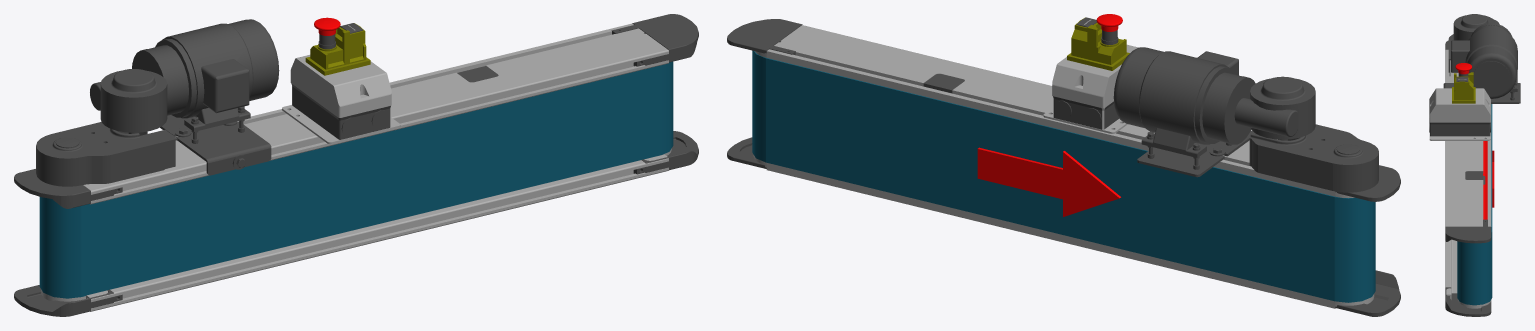
Rendered from MTF-GL.dae.
3 views of the same model, side by side, from view 1: azimuth 30°, elevation 25°; view 2: azimuth 150°, elevation 25°; view 3: azimuth 270°, elevation 25° (orthographic). The views are drawn at different scales.
Visible parts, largest first — view 1: _HE_010-H-GL_0-1010000022_0, _--H-83-83-83-GL_10000008_0, _T_898_0001_1-P210000020_0, _T_905_0058__1_10000024_0, _T_898_0001_1-P110000018_0, _GL-23-0_60_0_210000012_0, _GL-14-0_60__0_10000016_0, _GL-23-0_60_010000014_0, _GL-14-0_60__0__210000010_0; view 2: _HE_010-H-GL_0-1010000022_0, _--H-83-83-83-GL_10000008_0, _T_898_0001_1-P210000020_0, _T_905_0058__1_10000024_0, _T_898_0001_1-P110000018_0, _GL-23-0_60_0_210000012_0, _GL-23-0_60_010000014_0, _GL-14-0_60__0_10000016_0, _GL-14-0_60__0__210000010_0; view 3: _--H-83-83-83-GL_10000008_0, _T_898_0001_1-P210000020_0, _T_905_0058__1_10000024_0, _HE_010-H-GL_0-1010000022_0, _GL-23-0_60_0_210000012_0, _GL-14-0_60__0__210000010_0, _T_898_0001_1-P110000018_0.
Part boxes in pixels (x1=…): _HE_010-H-GL_0-1010000022_0: x1=39, y1=61, x2=673, y2=298; _--H-83-83-83-GL_10000008_0: x1=41, y1=23, x2=671, y2=311; _T_898_0001_1-P210000020_0: x1=90, y1=19, x2=279, y2=175; _T_905_0058__1_10000024_0: x1=282, y1=17, x2=400, y2=144; _T_898_0001_1-P110000018_0: x1=36, y1=122, x2=177, y2=186; _GL-23-0_60_0_210000012_0: x1=611, y1=14, x2=698, y2=66; _GL-14-0_60__0_10000016_0: x1=14, y1=169, x2=122, y2=208; _GL-23-0_60_010000014_0: x1=14, y1=285, x2=122, y2=316; _GL-14-0_60__0__210000010_0: x1=633, y1=131, x2=698, y2=174; _HE_010-H-GL_0-1010000022_0: x1=752, y1=50, x2=1375, y2=302; _--H-83-83-83-GL_10000008_0: x1=753, y1=25, x2=1374, y2=308; _T_898_0001_1-P210000020_0: x1=1113, y1=47, x2=1315, y2=177; _T_905_0058__1_10000024_0: x1=1043, y1=14, x2=1138, y2=133; _T_898_0001_1-P110000018_0: x1=1249, y1=124, x2=1378, y2=192; _GL-23-0_60_0_210000012_0: x1=727, y1=19, x2=802, y2=55; _GL-23-0_60_010000014_0: x1=1335, y1=270, x2=1400, y2=316; _GL-14-0_60__0_10000016_0: x1=1335, y1=165, x2=1400, y2=201; _GL-14-0_60__0__210000010_0: x1=727, y1=137, x2=766, y2=168; _--H-83-83-83-GL_10000008_0: x1=1445, y1=49, x2=1491, y2=308; _T_898_0001_1-P210000020_0: x1=1443, y1=14, x2=1520, y2=103; _T_905_0058__1_10000024_0: x1=1429, y1=63, x2=1490, y2=140; _HE_010-H-GL_0-1010000022_0: x1=1457, y1=104, x2=1494, y2=305; _GL-23-0_60_0_210000012_0: x1=1445, y1=219, x2=1491, y2=243; _GL-14-0_60__0__210000010_0: x1=1445, y1=287, x2=1491, y2=316; _T_898_0001_1-P110000018_0: x1=1448, y1=34, x2=1453, y2=75.
Bounding box in the file's own units: 1160 × 360 × 218.
